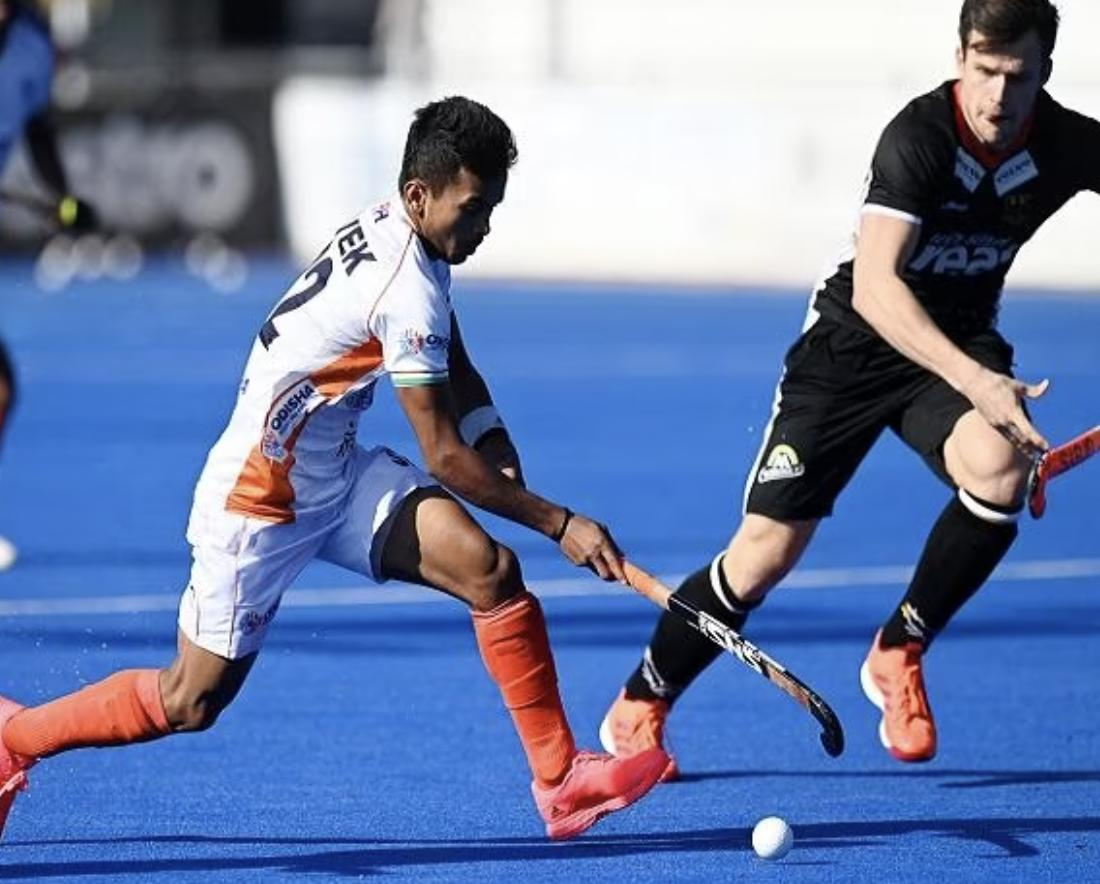ball: (729, 803, 808, 870)
